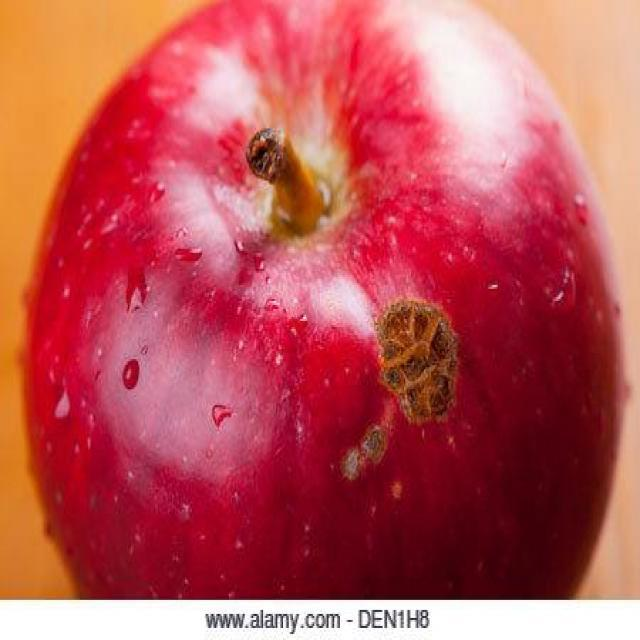Apple: (47, 0, 633, 597)
